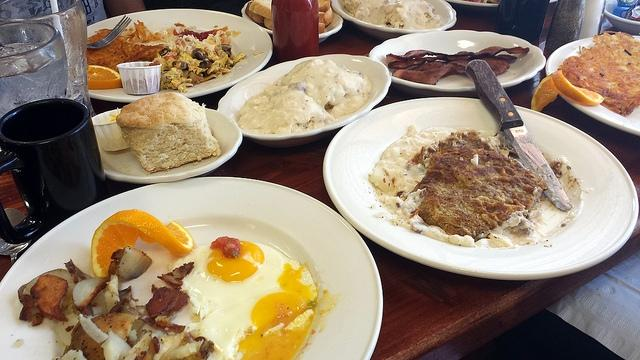orange: (90, 209, 194, 278), (552, 70, 604, 106), (530, 74, 560, 112), (86, 65, 122, 90)
